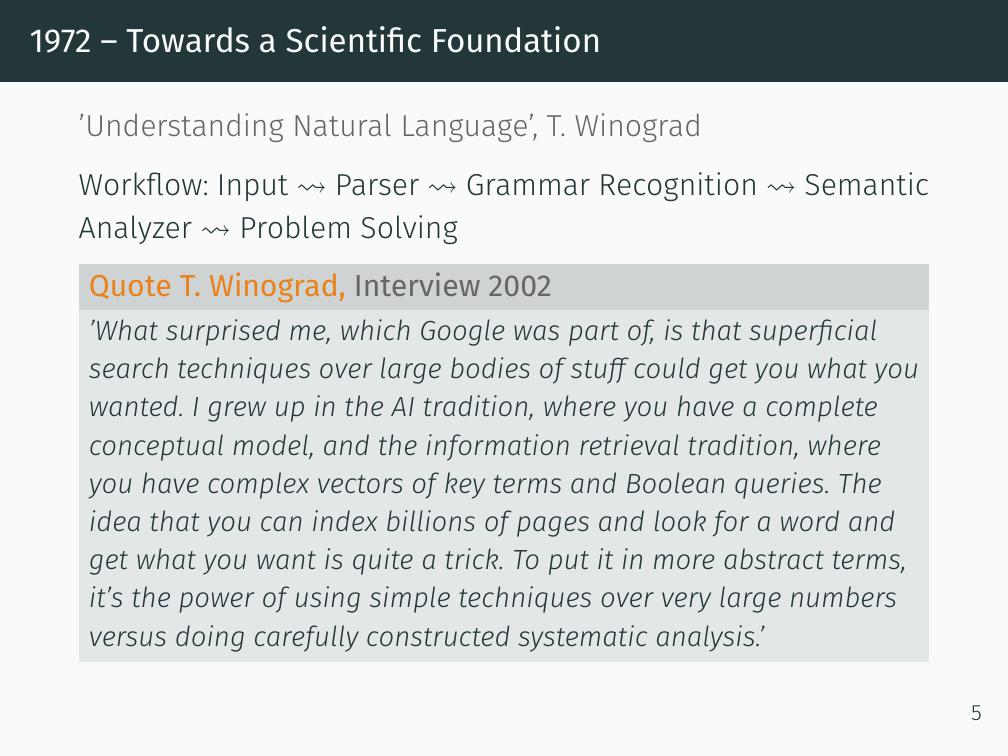Title: (27, 22, 606, 65)
